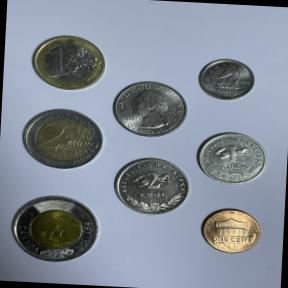coin: (7, 190, 106, 268), (17, 105, 108, 172), (107, 155, 194, 220), (26, 30, 110, 94), (108, 78, 193, 140), (196, 204, 266, 256), (196, 55, 262, 104)
